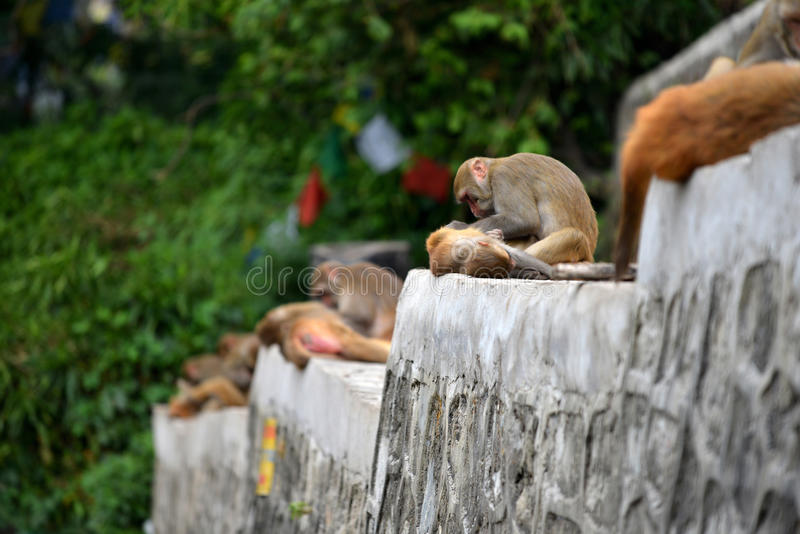monkey: (617, 1, 800, 202), (445, 139, 597, 261), (253, 297, 395, 381), (415, 219, 555, 292), (304, 252, 407, 342)
